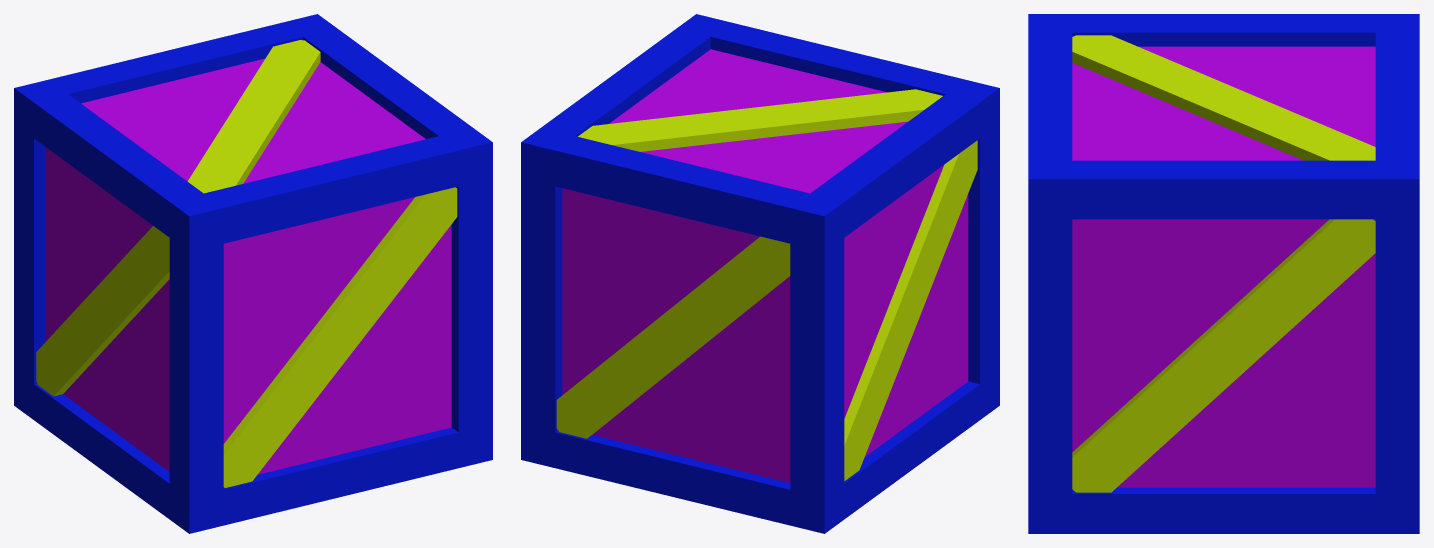
3 renders of one model, left to right at view 1: azimuth 30°, elevation 25°; view 2: azimuth 150°, elevation 25°; view 3: azimuth 270°, elevation 25°, orthographic. The views are drawn at different scales.
Parts seen in each view (by area): view 1: Box1_High; view 2: Box1_High; view 3: Box1_High.
Part boxes in pixels (bbox=[...]): Box1_High: bbox=[14, 14, 492, 533]; Box1_High: bbox=[521, 14, 999, 533]; Box1_High: bbox=[1028, 14, 1419, 533].
Bounding box in the file's own units: 100 × 100 × 100.
